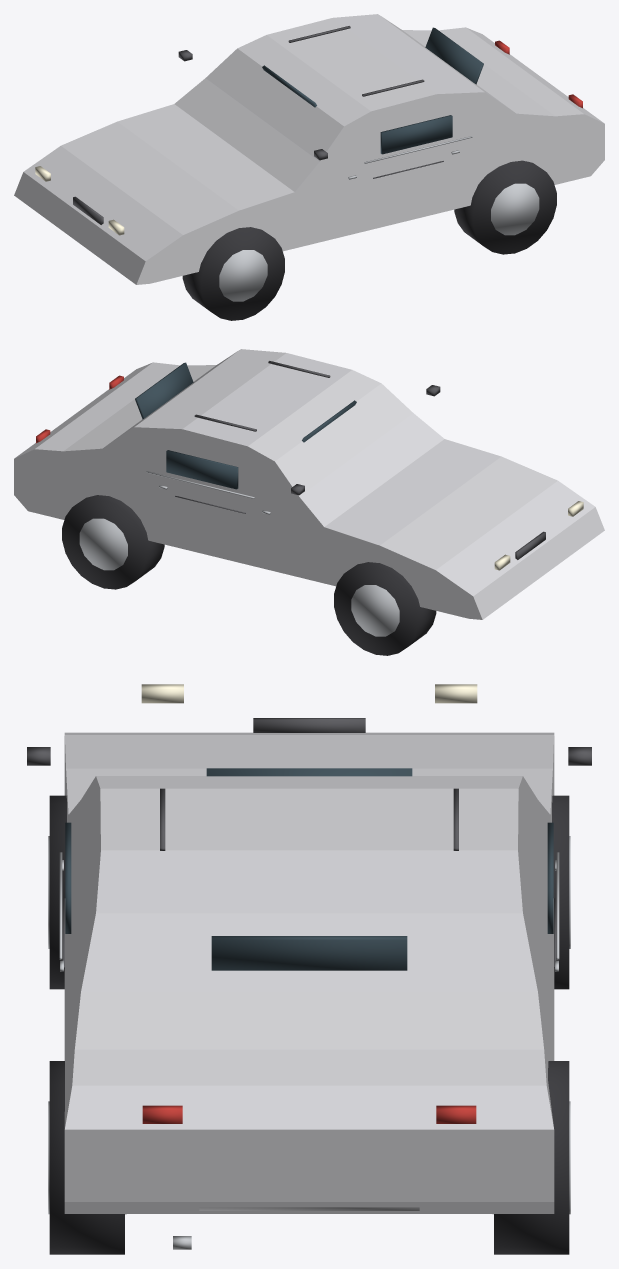
The model's file is sedan.glb.
3 views of the same model, one above another, from view 1: azimuth 30°, elevation 25°; view 2: azimuth 150°, elevation 25°; view 3: azimuth 270°, elevation 25° (orthographic). The views are drawn at different scales.
Parts seen in each view (by area): view 1: body_main, wheel_rear_r, wheel_front_r, trim_rim__rear_r, trim_rim__front_r, glass_side_r, glass_rear; view 2: body_main, wheel_rear_l, wheel_front_l, trim_rim__rear_l, trim_rim__front_l, glass_side_l, glass_rear; view 3: body_main, glass_rear, wheel_rear_l, wheel_rear_r, wheel_front_r, wheel_front_l, glass_windshield, trim_grille, body_bumper_rear, headlight_l, headlight_r, glass_side_l (+3 smaller).
Part boxes in pixels (x1,y1,x2,y2): body_main: (14,14,604,284); wheel_rear_r: (454,160,556,254); wheel_front_r: (182,227,284,320); trim_rim__rear_r: (491,183,539,235); trim_rim__front_r: (219,250,267,301); glass_side_r: (380,115,452,154); glass_rear: (425,27,483,84); body_main: (14,349,604,619); wheel_rear_l: (62,495,164,589); wheel_front_l: (334,562,436,655); trim_rim__rear_l: (79,518,127,570); trim_rim__front_l: (351,585,399,636); glass_side_l: (166,450,238,489); glass_rear: (135,362,193,419); body_main: (64,732,554,1213); glass_rear: (211,936,407,970); wheel_rear_l: (494,1061,569,1254); wheel_rear_r: (49,1061,124,1254); wheel_front_r: (49,795,66,989); wheel_front_l: (552,795,569,989); glass_windshield: (206,768,412,776); trim_grille: (253,718,365,732); body_bumper_rear: (199,1207,419,1210); headlight_l: (435,684,477,703); headlight_r: (141,684,183,703); glass_side_l: (547,822,553,933).
Bounding box in the file's own units: 4.65 × 1.58 × 2.4.
